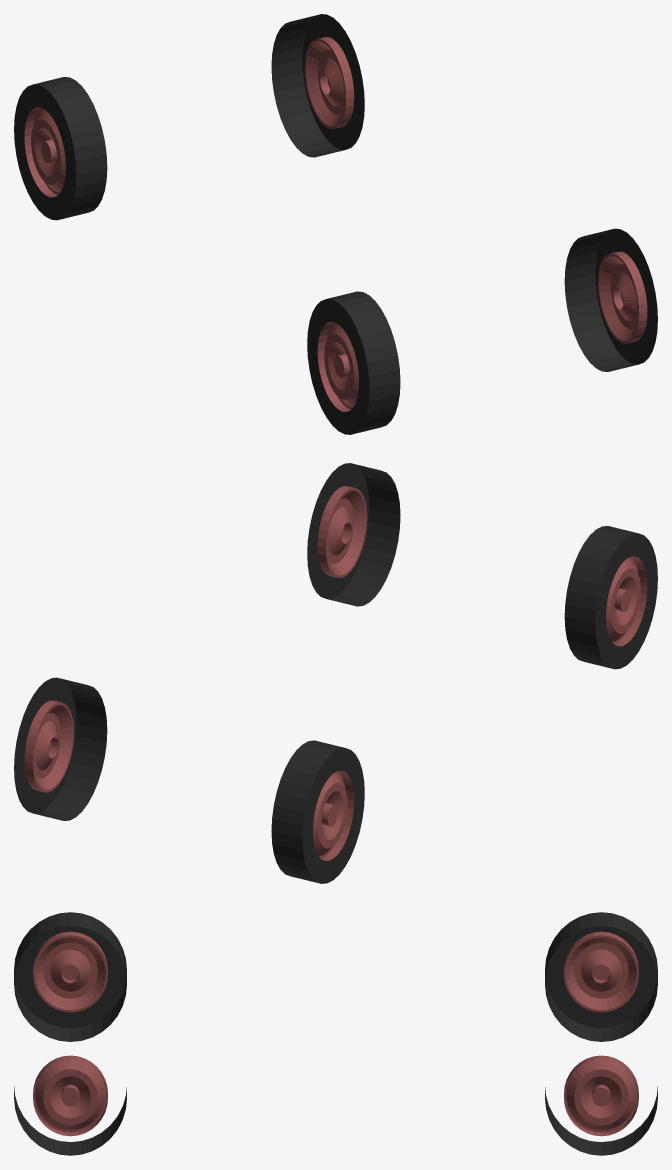
The model's file is bus-wheels.dae.
3 renders of one model, top to bottom at view 1: azimuth 30°, elevation 25°; view 2: azimuth 150°, elevation 25°; view 3: azimuth 270°, elevation 25°, orthographic. The views are drawn at different scales.
Visible parts, largest first — view 1: Circle, Circle_004; view 2: Circle, Circle_004; view 3: Circle_004, Circle.
Boxes of the visible parts, x1,y1,x2,y2 form: Circle: (307, 228, 657, 434); Circle_004: (14, 14, 364, 220); Circle: (307, 463, 657, 669); Circle_004: (14, 677, 364, 883); Circle_004: (545, 912, 657, 1155); Circle: (14, 912, 126, 1155).
Size of the model in its own units: 1.59 by 3.39 by 0.6748.
